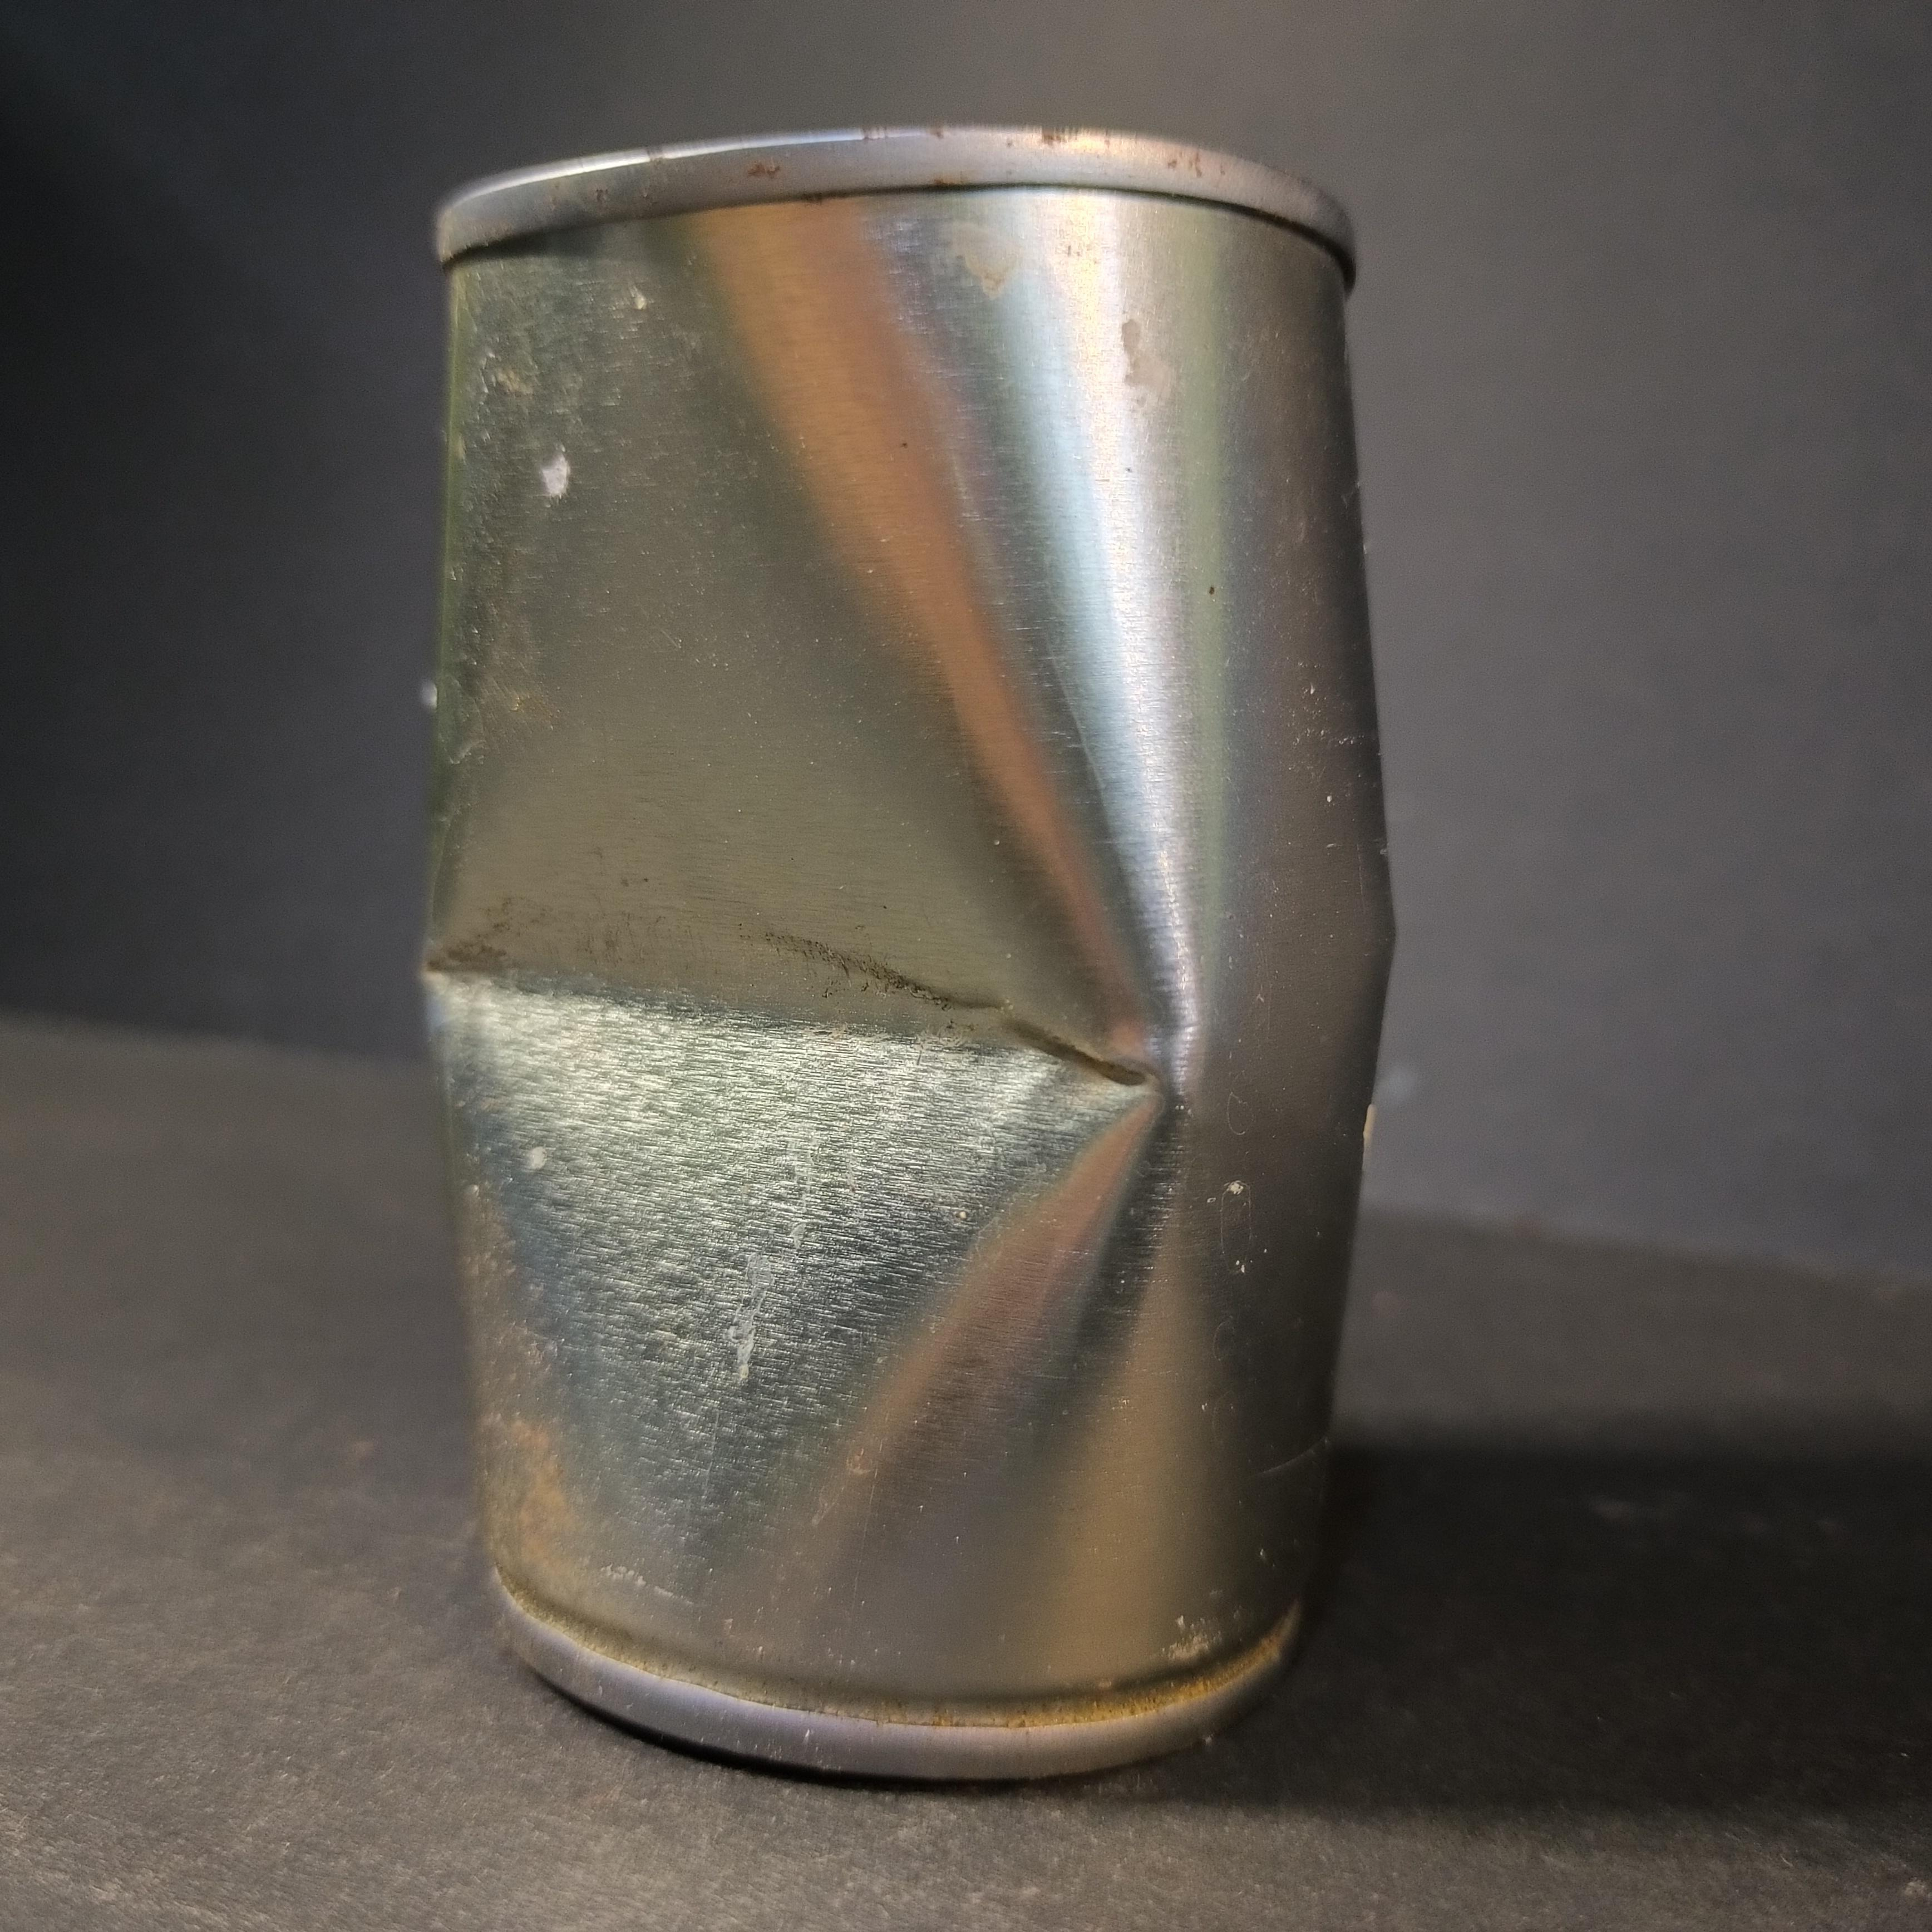Dented: (398, 92, 1438, 1794)
